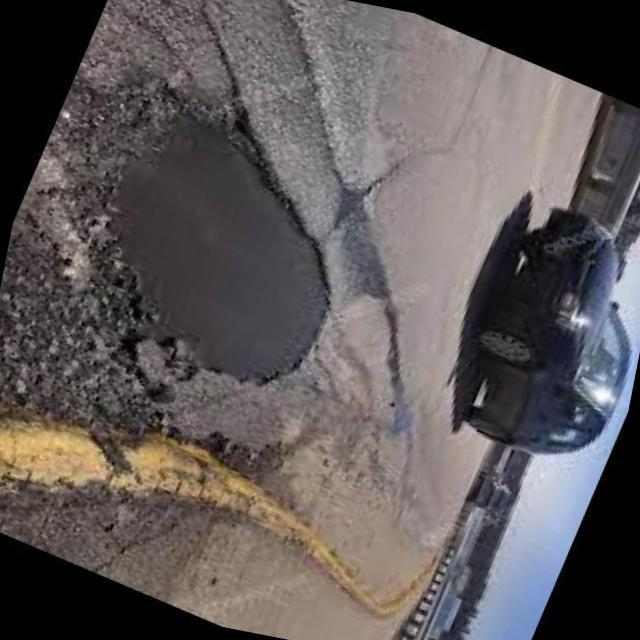pothole: (52, 48, 396, 418)
